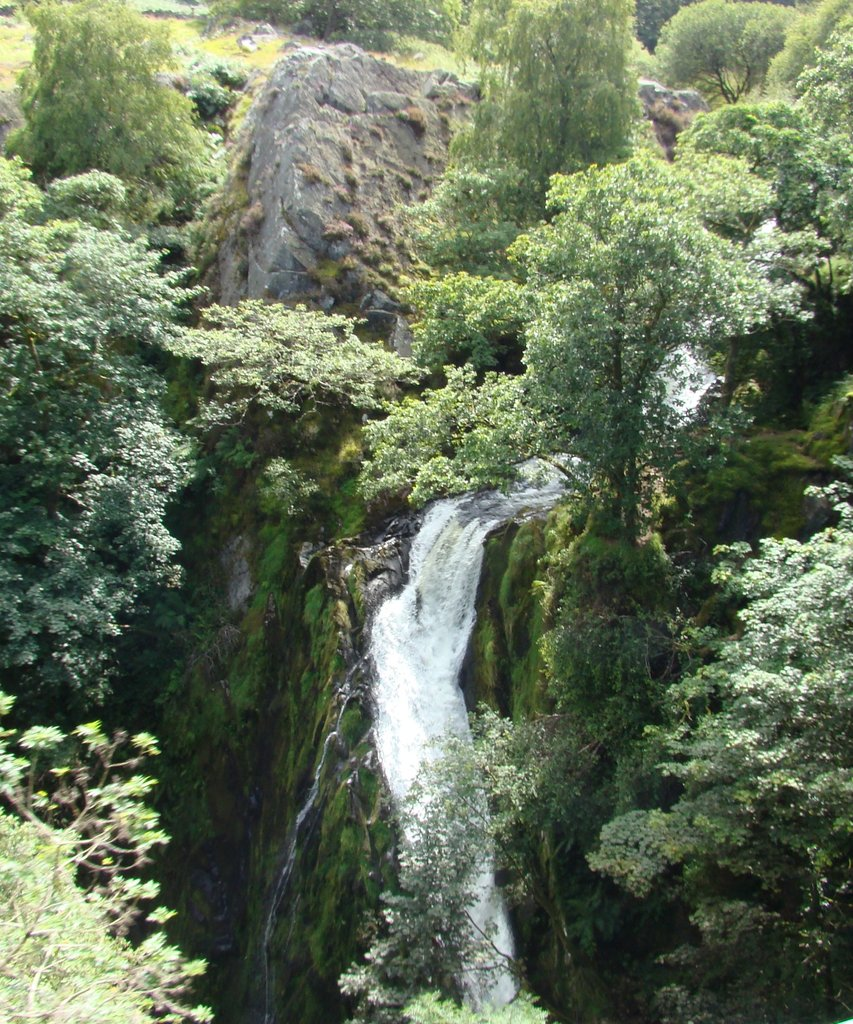Tree: (0, 0, 852, 1000)
